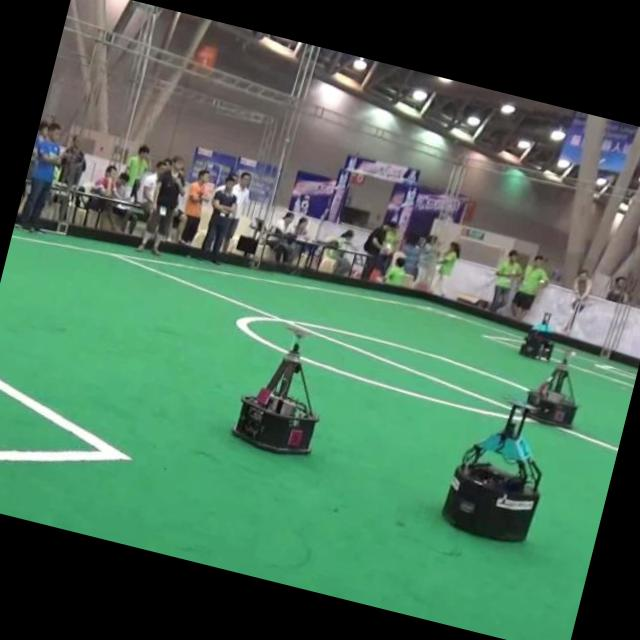robot: (442, 403, 541, 541), (233, 343, 317, 453), (526, 352, 577, 428), (519, 312, 554, 361)
